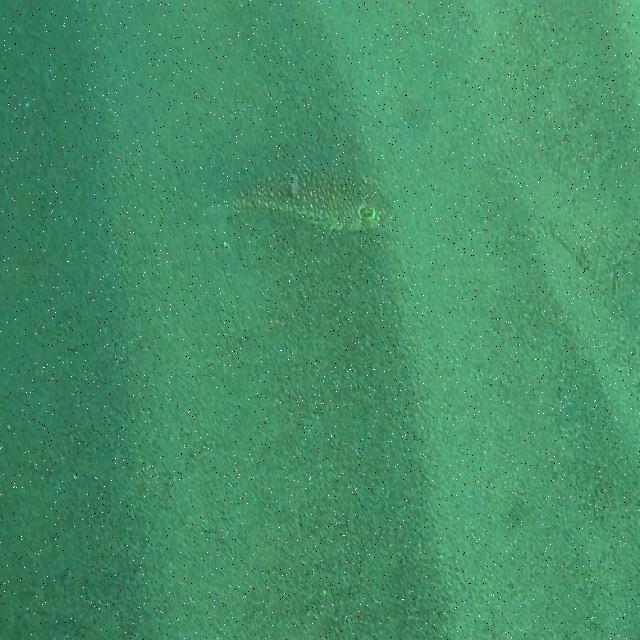Balik: (235, 170, 389, 231)
